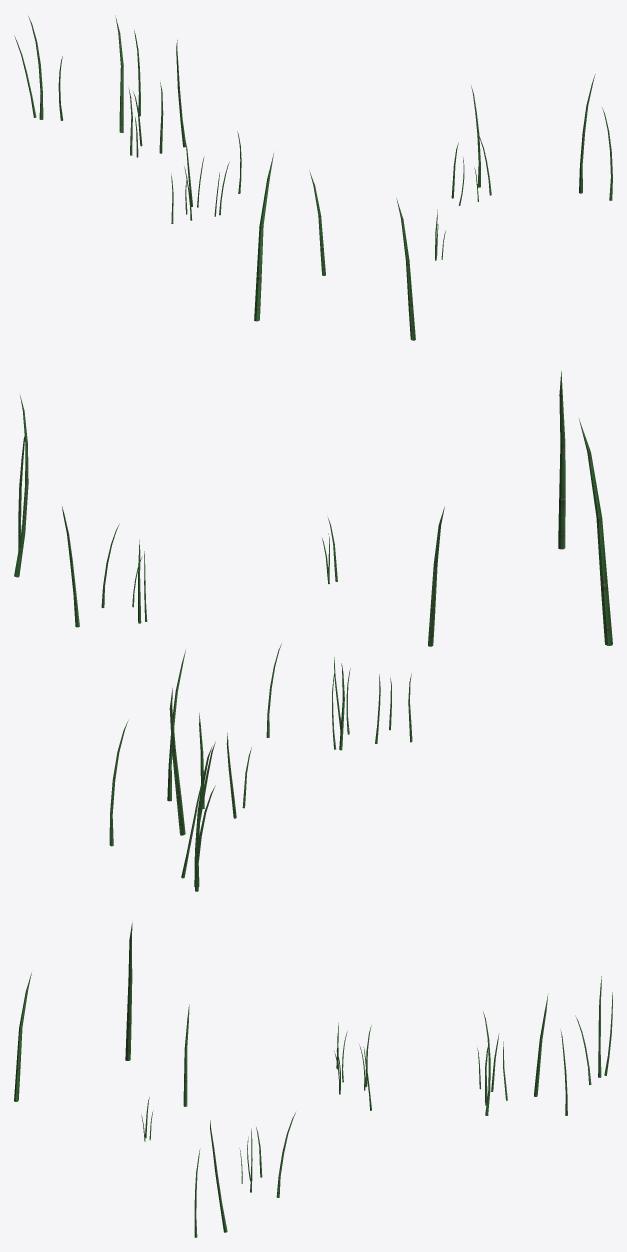
File: Area_09_4.fbx
3 views of the same model, one above another, from view 1: azimuth 30°, elevation 25°; view 2: azimuth 150°, elevation 25°; view 3: azimuth 270°, elevation 25° (orthographic). The views are drawn at different scales.
Visible parts, largest first — view 1: Area_09_4; view 2: Area_09_4; view 3: Area_09_4.
Part boxes in pixels (x1,y1,x2,y2): Area_09_4: (14,15,612,340); Area_09_4: (14,371,612,891); Area_09_4: (14,922,612,1237).
Size of the model in its own units: 6191 by 2493 by 8873.
